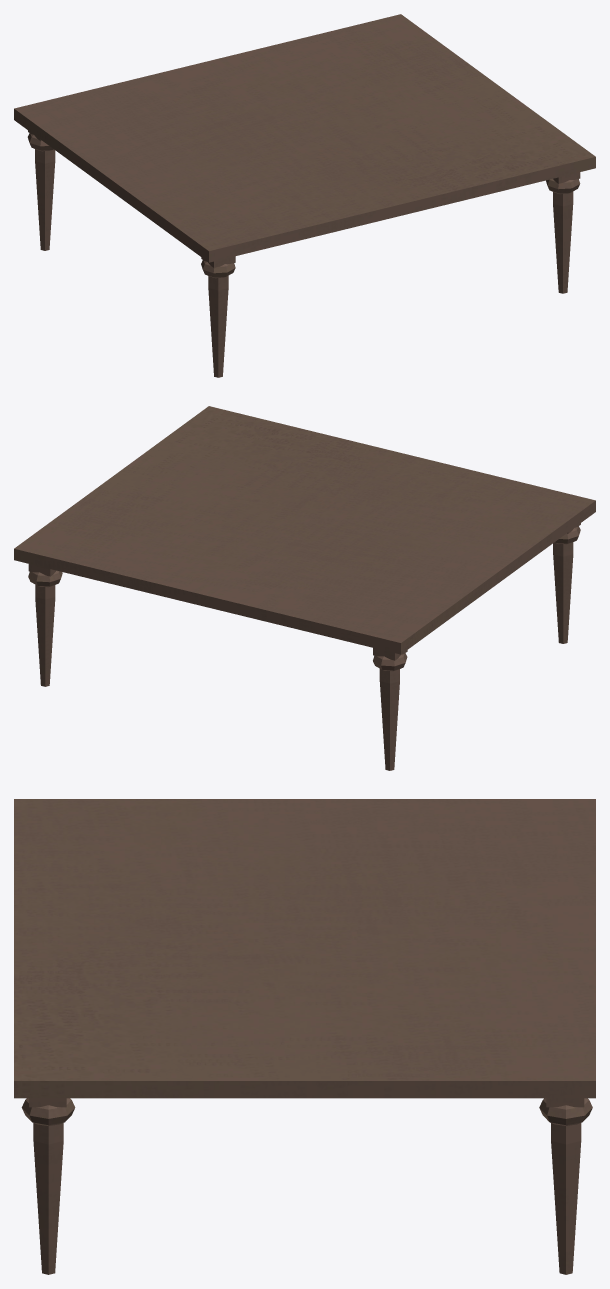
The model's file is DiningTable.fbx.
The picture shows the model from 3 angles, top to bottom: view 1: azimuth 30°, elevation 25°; view 2: azimuth 150°, elevation 25°; view 3: azimuth 270°, elevation 25°; orthographic projection. The views are drawn at different scales.
Visible parts, largest first — view 1: Table; view 2: Table; view 3: Table.
Boxes of the visible parts, x1=… form: Table: x1=14, y1=14, x2=595, y2=377; Table: x1=14, y1=406, x2=595, y2=770; Table: x1=14, y1=799, x2=595, y2=1274.
Size of the model in its own units: 321 by 109 by 280.
